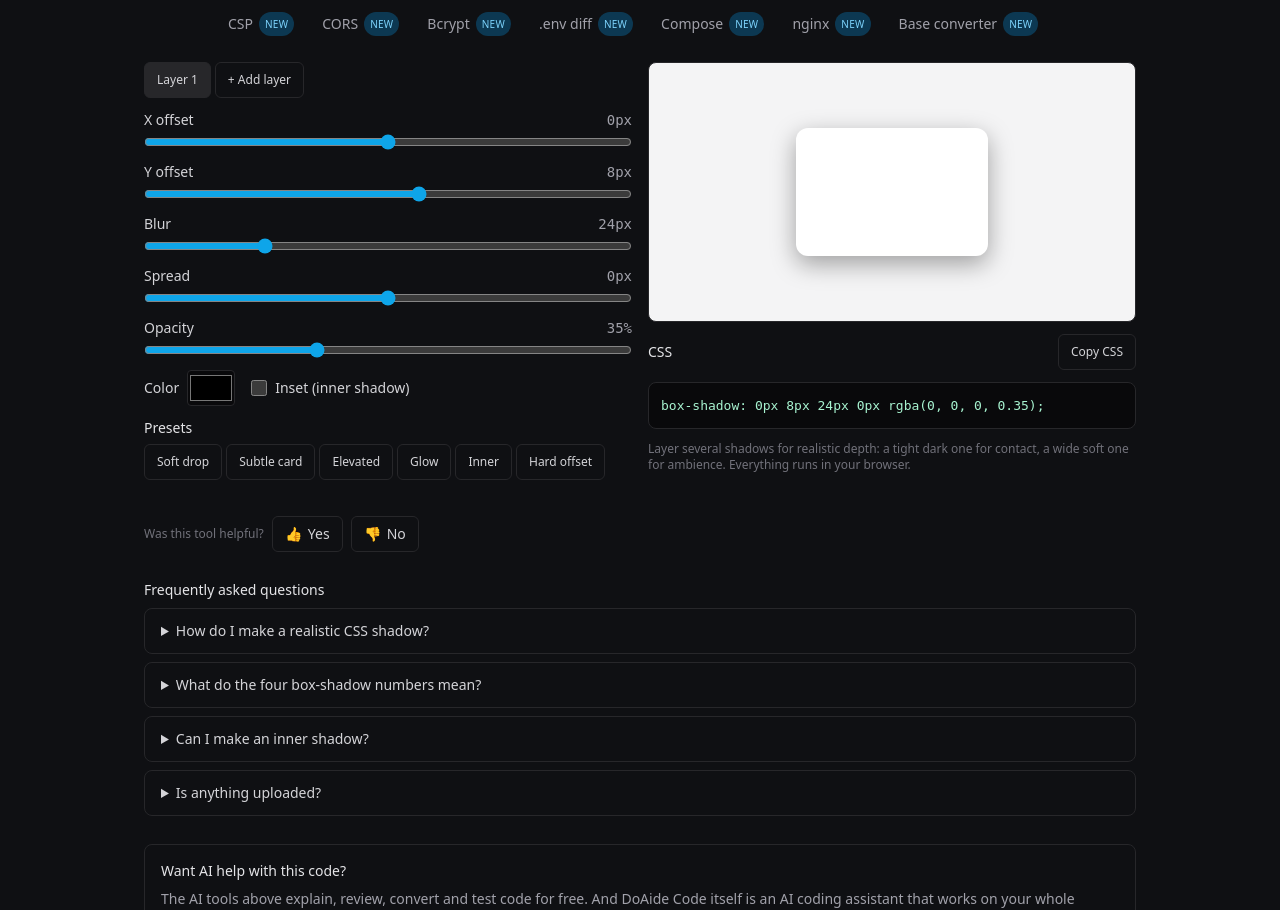
Test case: BoxShadowPage › applies a preset
(page scrolled)
Click the button with test id "shadow-preset-glow".
click(424, 462)  # box [397, 444, 451, 480]
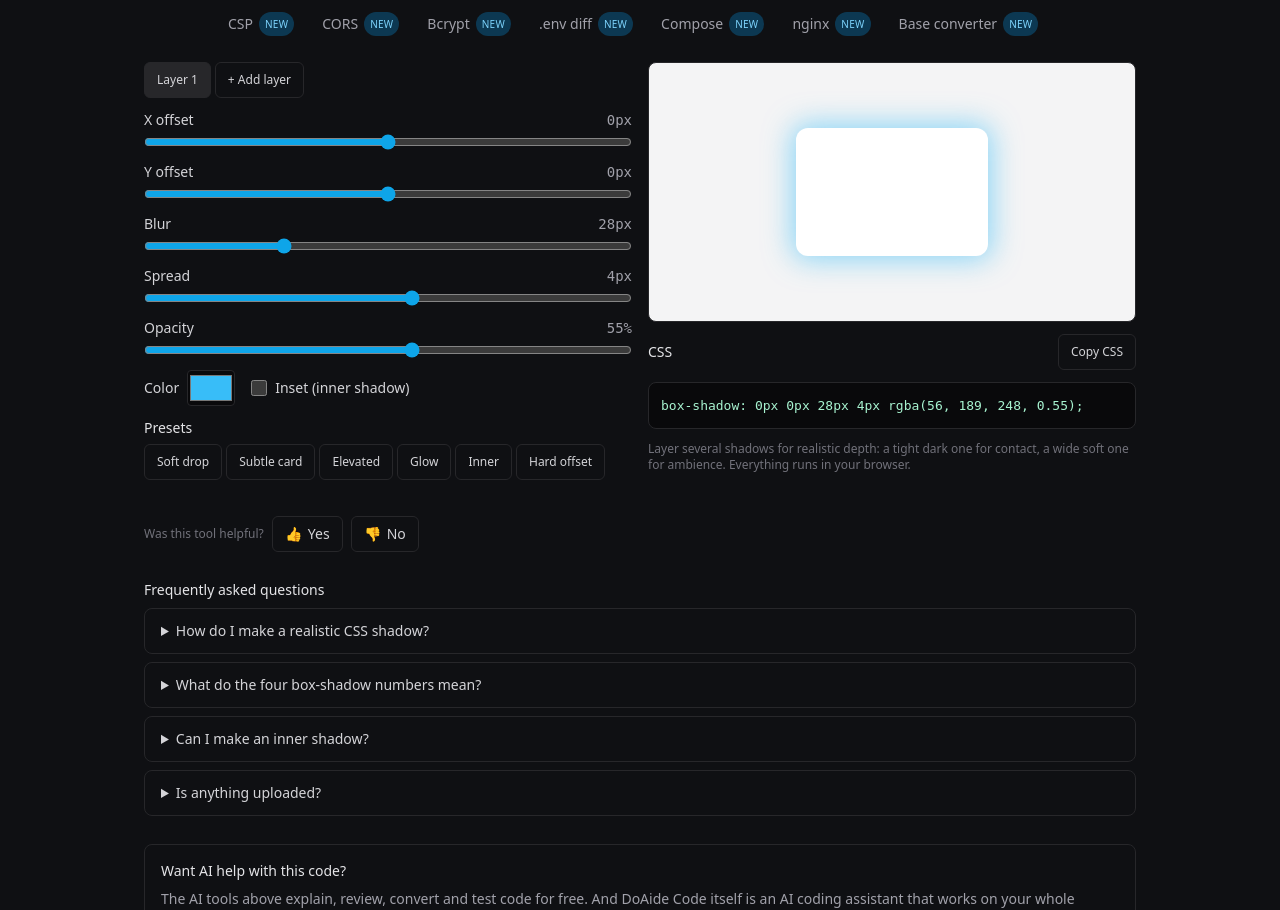
Expected: the text with test id "shadow-css" shows "rgba(56, 189, 248", [661, 398, 1084, 413]
